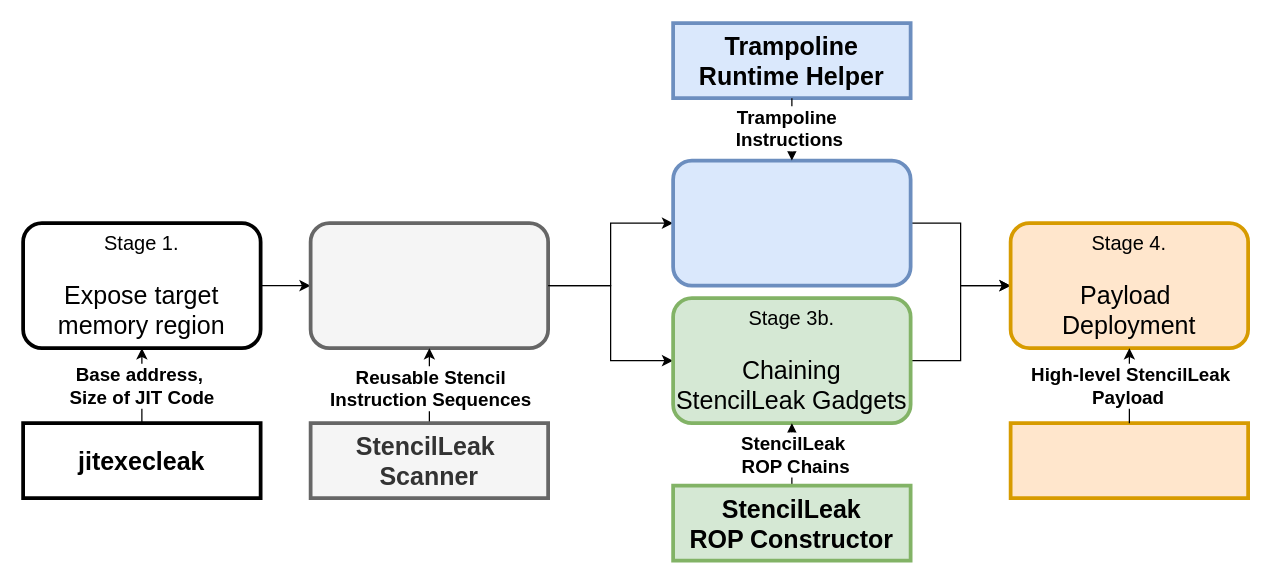
Image size: 1271x584. Some labels were removed from this diagram. The shapes that lost their labels are listed below. From the top down, each one's centre as x and y in pixels, then its label:
At point 791,222: "Stage 3a. Trampoline Hijacking".
At point 428,285: "Stage 2. Identifying StencilLeak Gadgets".
At point 1128,460: "StencilLeak Payload Builder".
